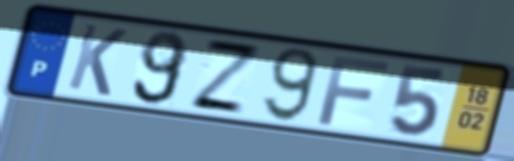5: (388, 62, 452, 138)
9: (258, 46, 322, 125), (128, 28, 191, 108)
F: (315, 53, 394, 128)
K: (64, 20, 131, 99)
Z: (185, 35, 266, 117)
